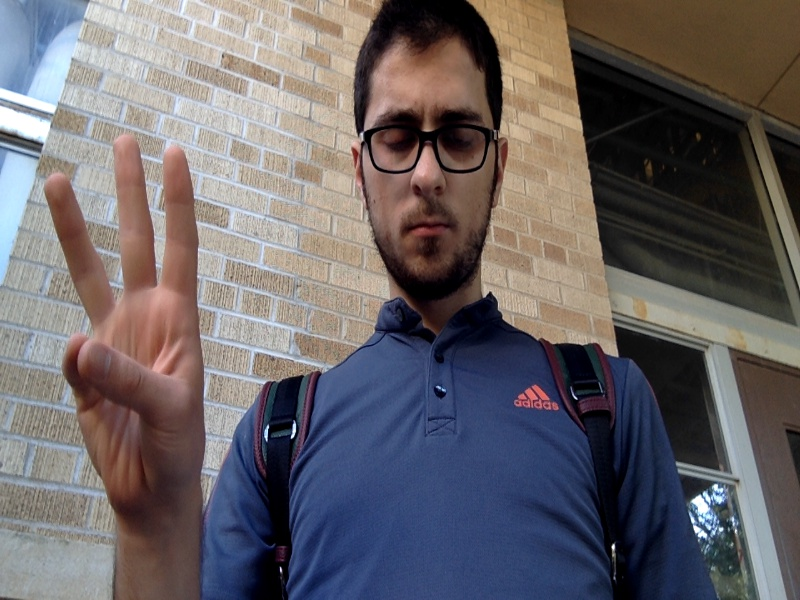3-hand: (42, 134, 203, 527)
